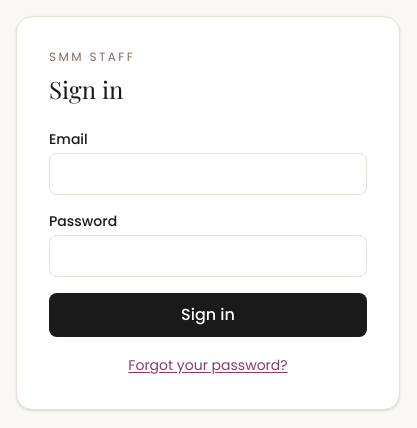
access re-check when returning to the tab › nothing is checked while signed out or resetting a password
Click the button "Forgot your password?": (208, 365) [128,355,288,375]
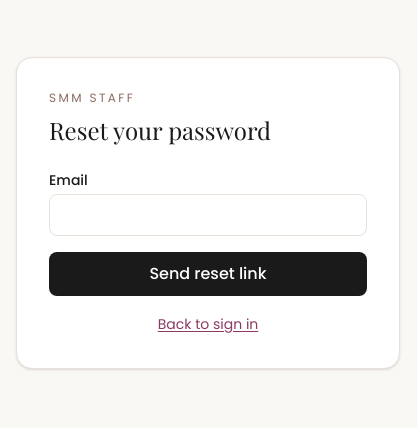
expect the heading "Reset your password" is shown: met, box [49,114,271,146]
